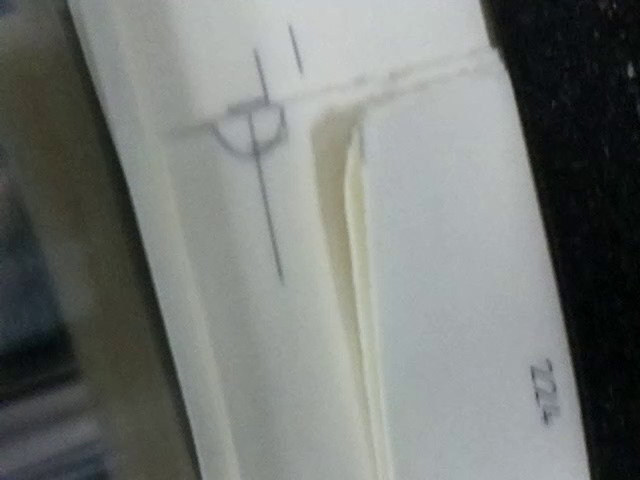misaligned: (167, 47, 297, 168)
